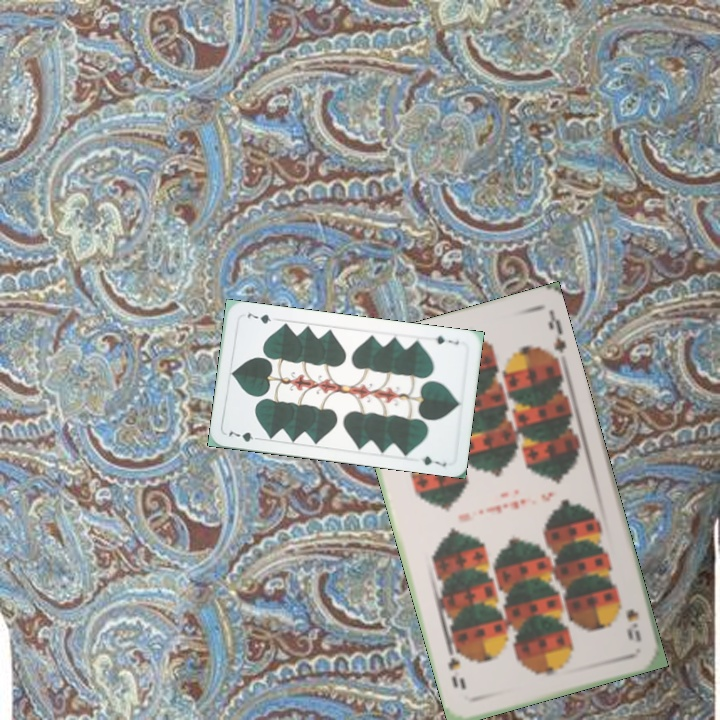G7: (225, 427, 264, 444), (426, 332, 461, 347)
S9: (622, 604, 644, 644)
